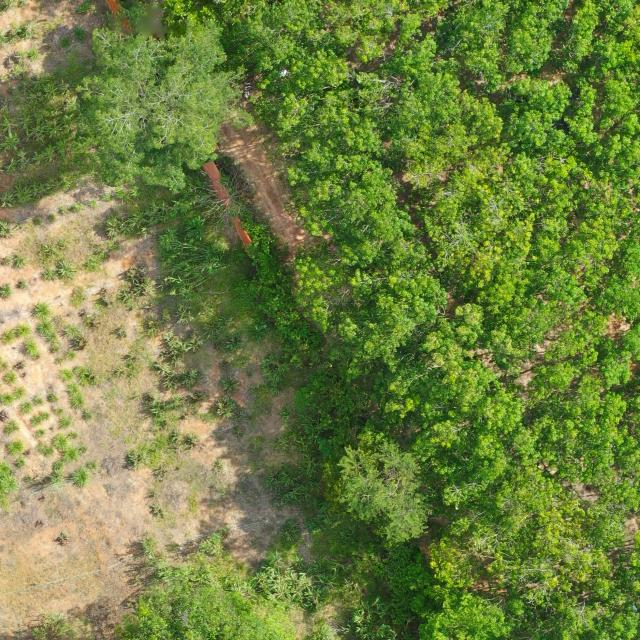Tree: (240, 0, 640, 370), (337, 369, 640, 640), (61, 10, 238, 201), (110, 534, 322, 640)
